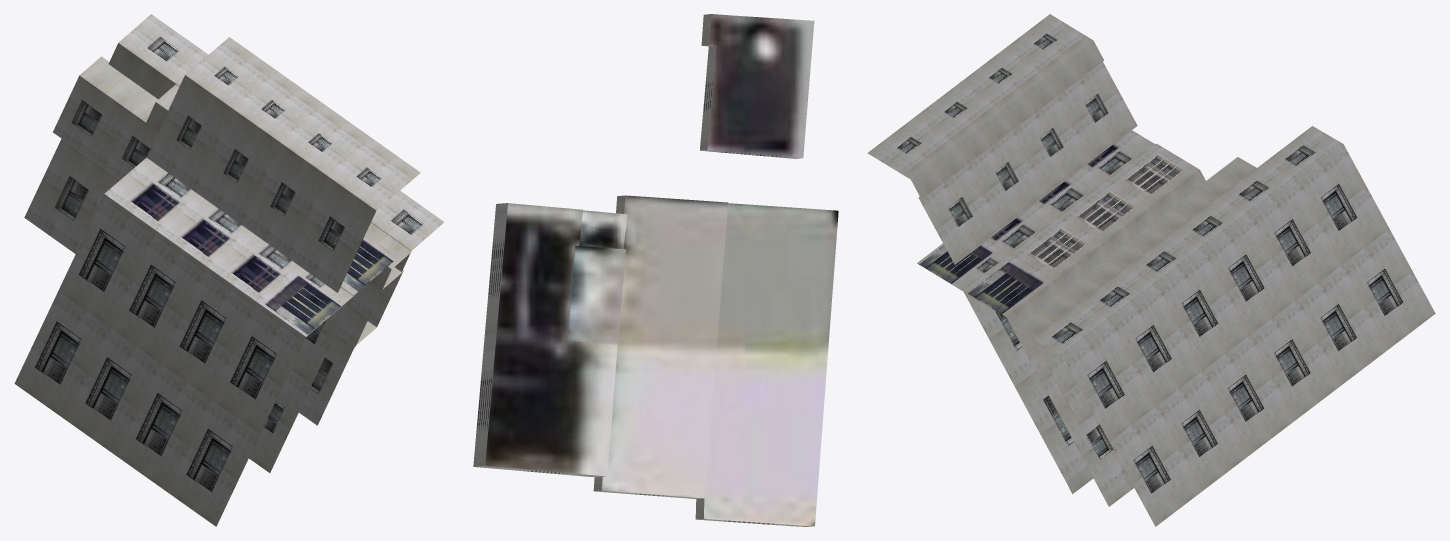
3 views of the same model, side by side, from view 1: azimuth 30°, elevation 25°; view 2: azimuth 150°, elevation 25°; view 3: azimuth 270°, elevation 25° (orthographic). The views are drawn at different scales.
Size of the model in its own units: 21.15 by 26.05 by 29.92.
20 materials, 20 textured.
